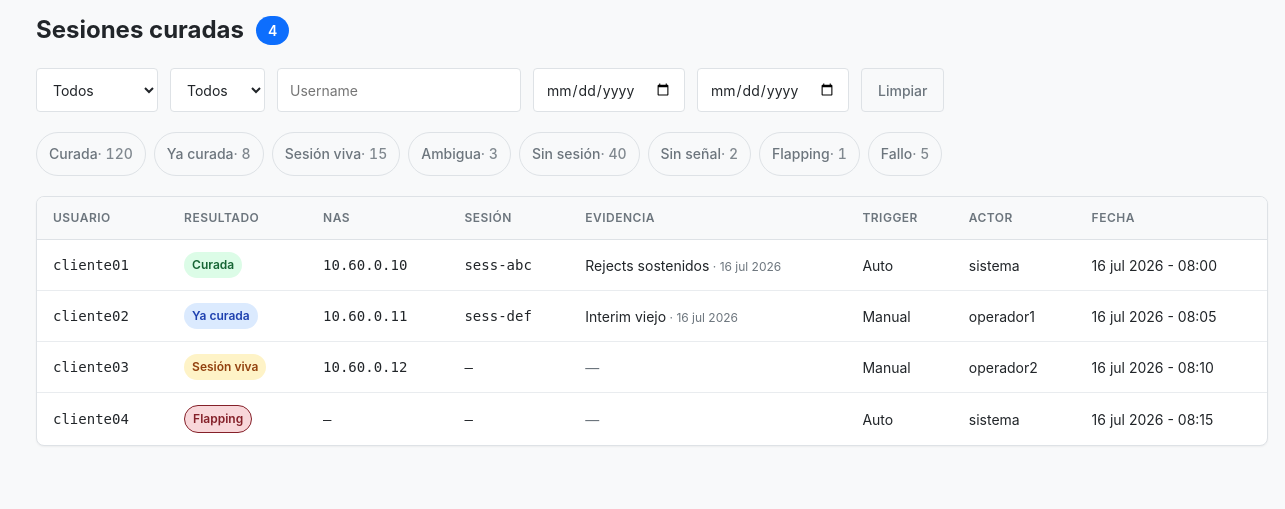
Test: RadiusSessionCuresPage — filtros en la URL › elegir un outcome del select filtra la query y escribe cure_outcome en la URL
Step 1. Select "Sesión viva" in the dropdown named "filtrar por resultado" → (97, 90), box top-left (36, 68), bottom-right (158, 112)
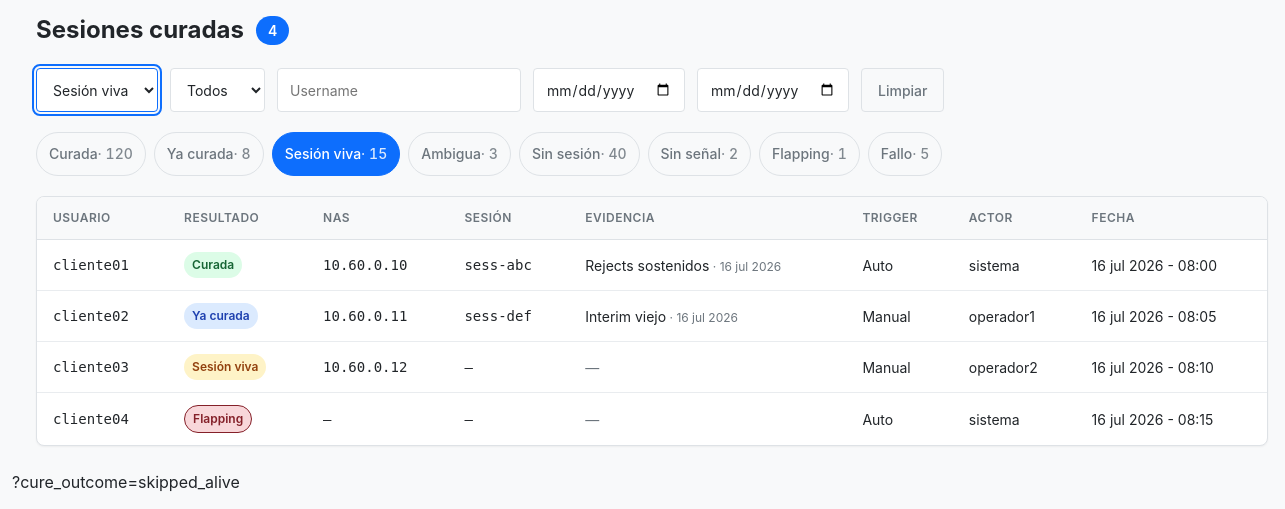
Result: the text with test id "location-search" shows "cure_outcome=skipped_alive" at top-left (12, 472), bottom-right (240, 492)
